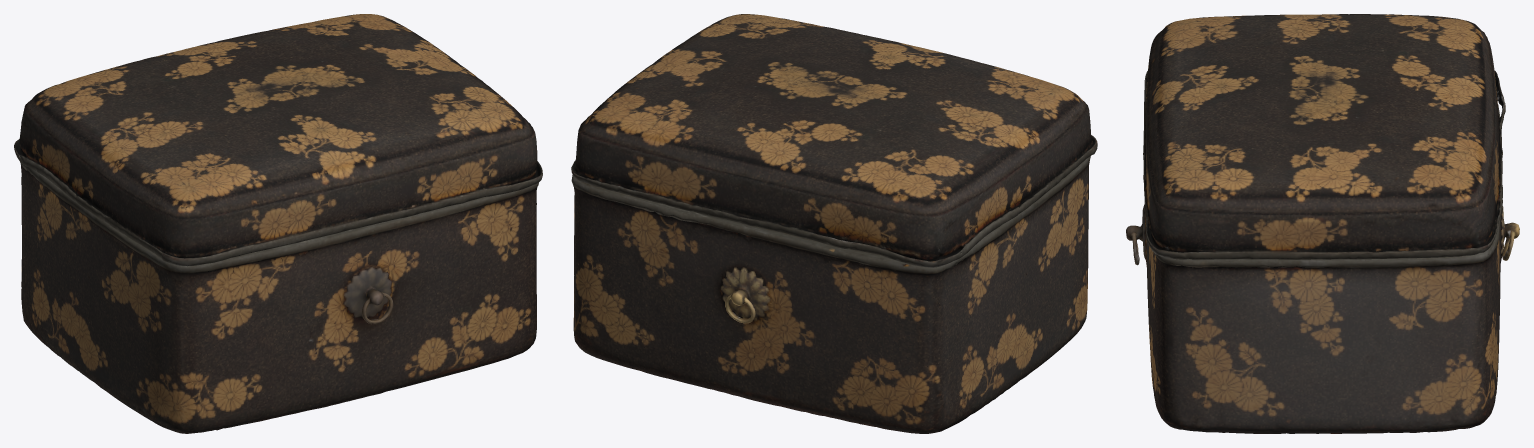
The picture shows the model from 3 angles, left to right: view 1: azimuth 30°, elevation 25°; view 2: azimuth 150°, elevation 25°; view 3: azimuth 270°, elevation 25°; orthographic projection.
Parts seen in each view (by area): view 1: 1963.513.b_Cosmetics_Box_Lid_1, 1963.513.a_Cosmetics_Box_0; view 2: 1963.513.a_Cosmetics_Box_0, 1963.513.b_Cosmetics_Box_Lid_1; view 3: 1963.513.b_Cosmetics_Box_Lid_1, 1963.513.a_Cosmetics_Box_0.
Boxes of the visible parts, <box> form: 1963.513.b_Cosmetics_Box_Lid_1: <box>14,14,542,266</box>; 1963.513.a_Cosmetics_Box_0: <box>20,162,538,433</box>; 1963.513.a_Cosmetics_Box_0: <box>571,156,1090,433</box>; 1963.513.b_Cosmetics_Box_Lid_1: <box>571,14,1097,267</box>; 1963.513.b_Cosmetics_Box_Lid_1: <box>1143,14,1505,259</box>; 1963.513.a_Cosmetics_Box_0: <box>1126,104,1519,433</box>.
Bounding box in the file's own units: 29.22 × 18.31 × 25.05.
Materials: 1 (1 with a texture image).
